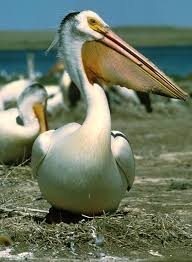pelican: (32, 10, 188, 214)
